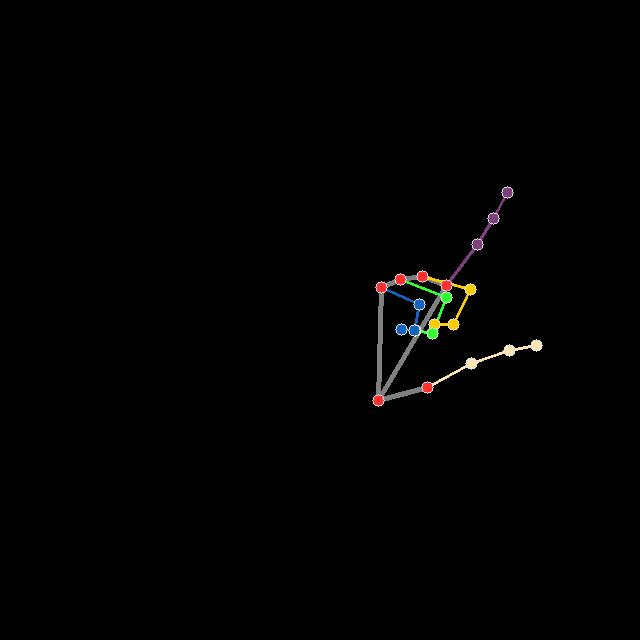gun: (370, 181, 550, 409)
